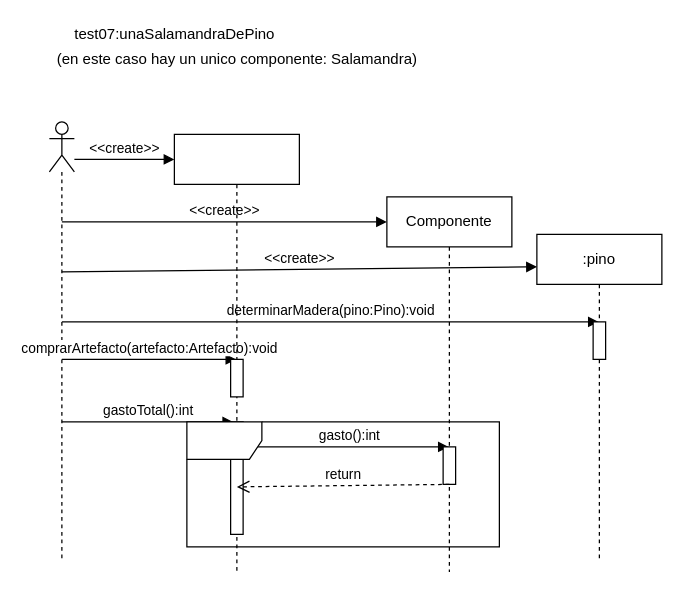
Image size: 684x594. Some labels were removed from this diagram. Here are the shapes that lost their labels. From the top down, the centre of each, then its label:
At (236,352): ":casa".
At (342,484): "p/cada comp".
